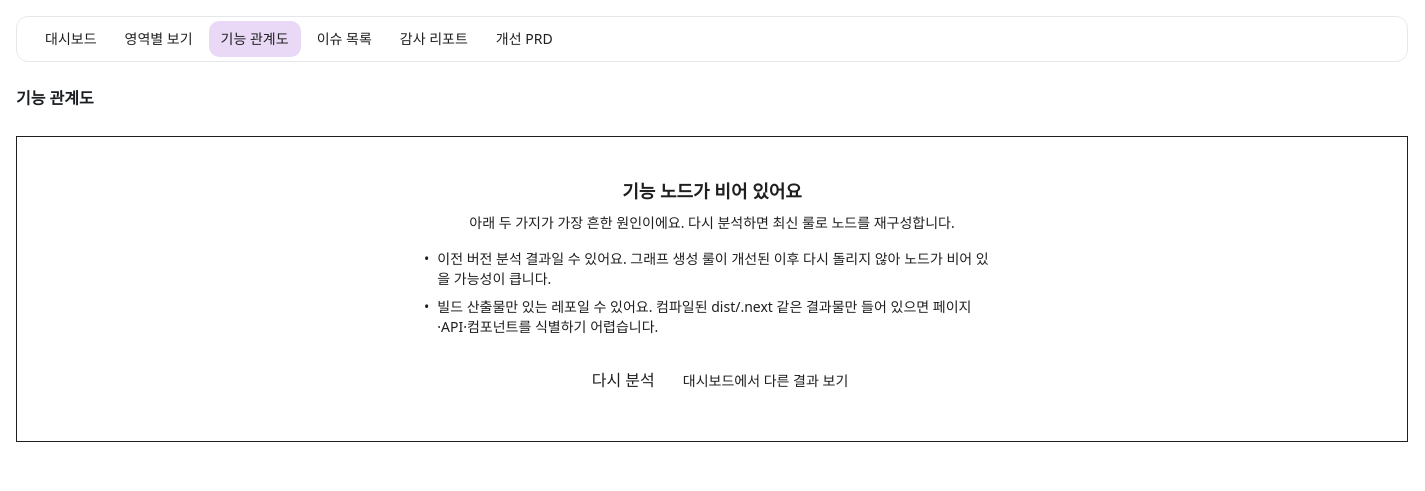
Test case: FeatureGraphPage › rerun CTA surfaces an error message when the request fails
This screenshot has width=1425, height=491.
Click the button with test id "feature-graph-empty-rerun".
click(623, 381)  # box [576,361,671,401]
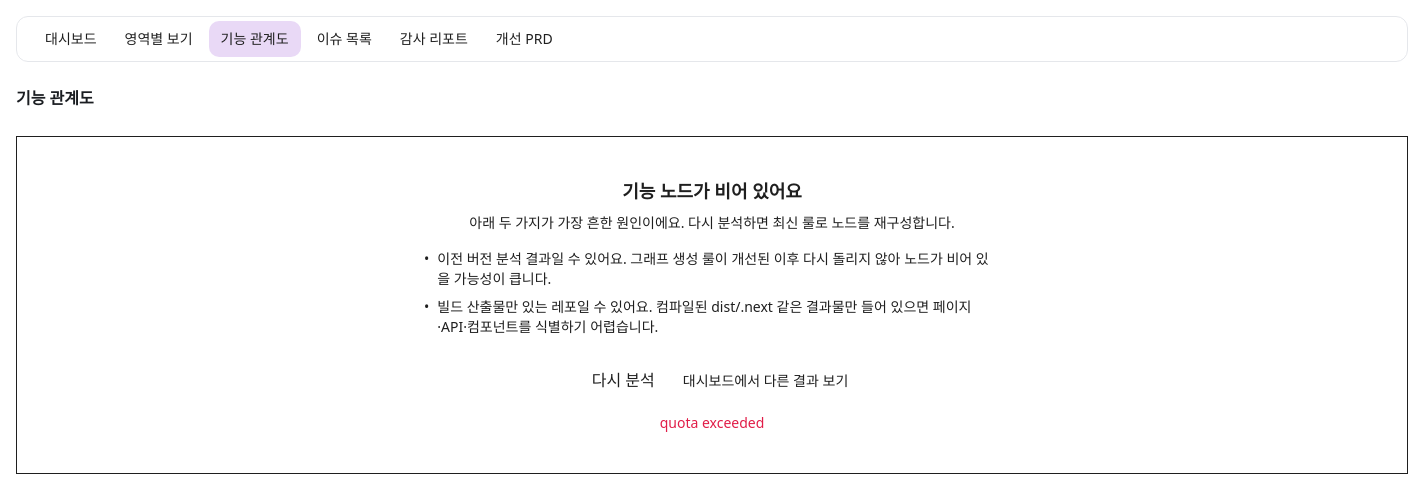
Expected: the message reads "quota exceeded", [660,413,764,432]
